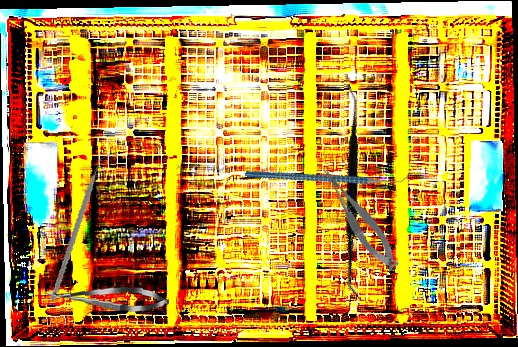Chopper: (244, 115, 413, 234), (21, 153, 143, 301)
Micro Scissor: (318, 159, 403, 278), (43, 280, 170, 315)
Spatula Surgical: (257, 83, 451, 302)
